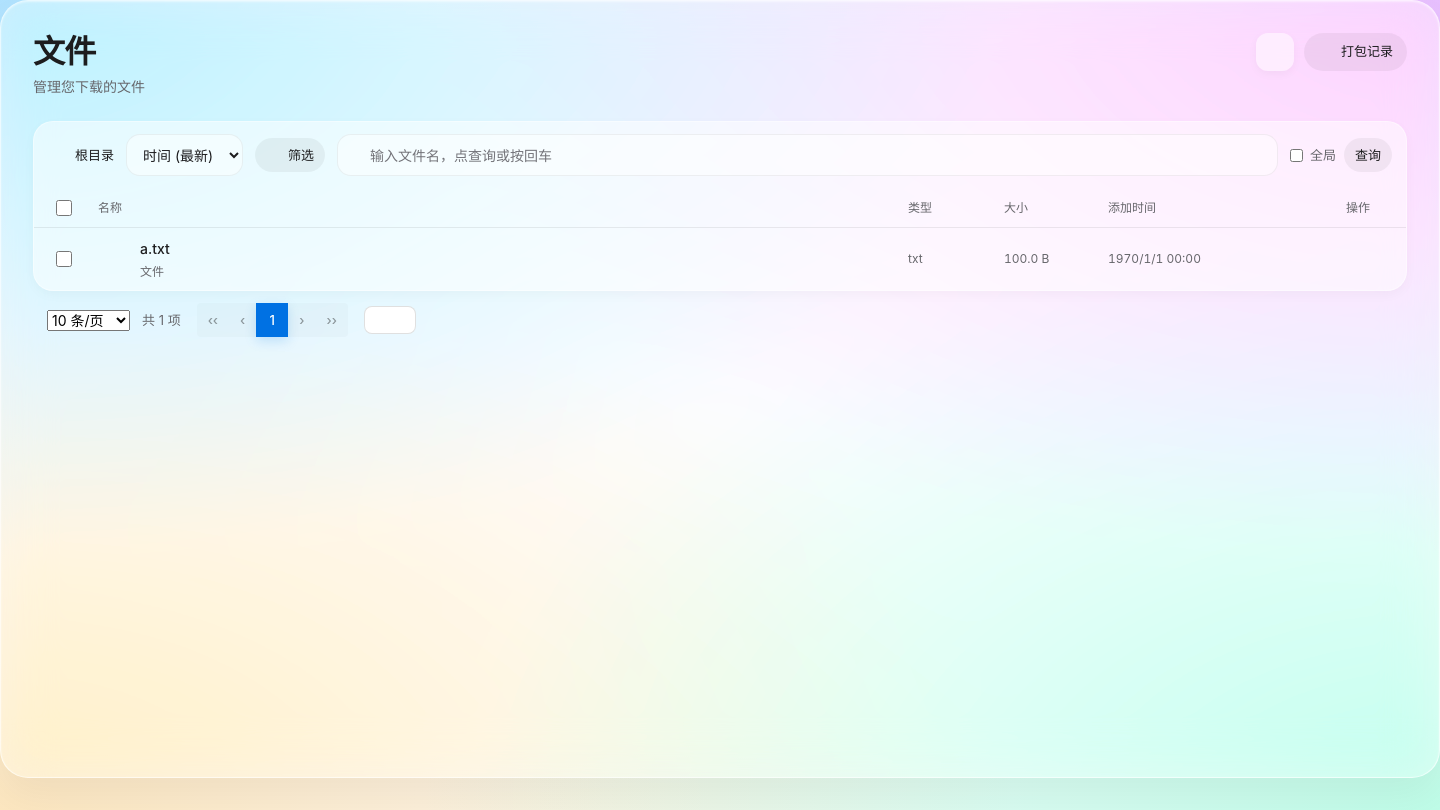
Test: FilesPage 搜索 › Escape 只由 ModalOverlay 退出，完成前不卸载且不重复关闭
The image size is (1440, 810).
Check: the text "a.txt" is shown, box x1=140 y1=240 x2=170 y2=257
Type "abc" into the field named "搜索文件". click: (807, 155)
box: x1=337 y1=134 x2=1278 y2=176
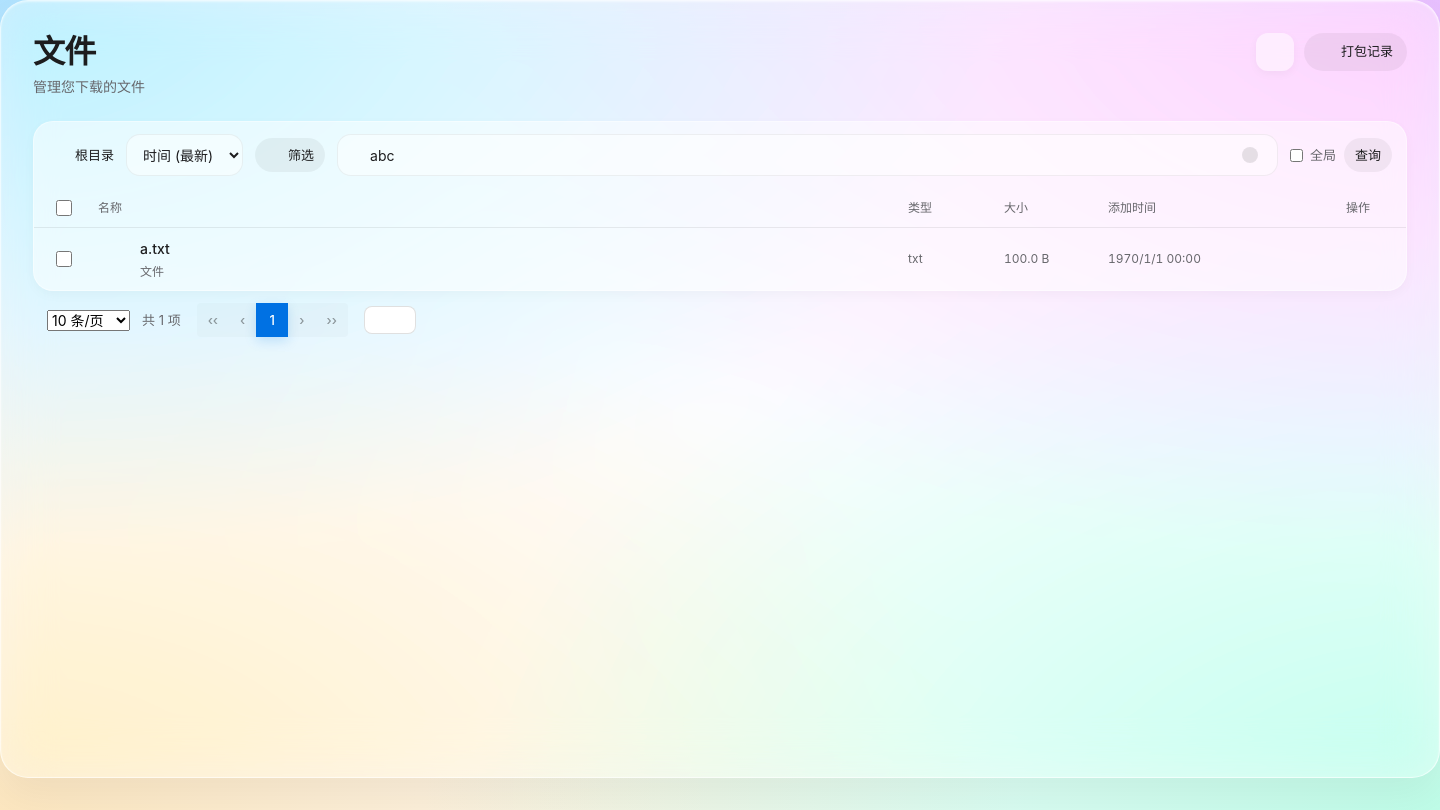
Click the button "查询". click: (1368, 155)
box: x1=1344 y1=138 x2=1392 y2=172
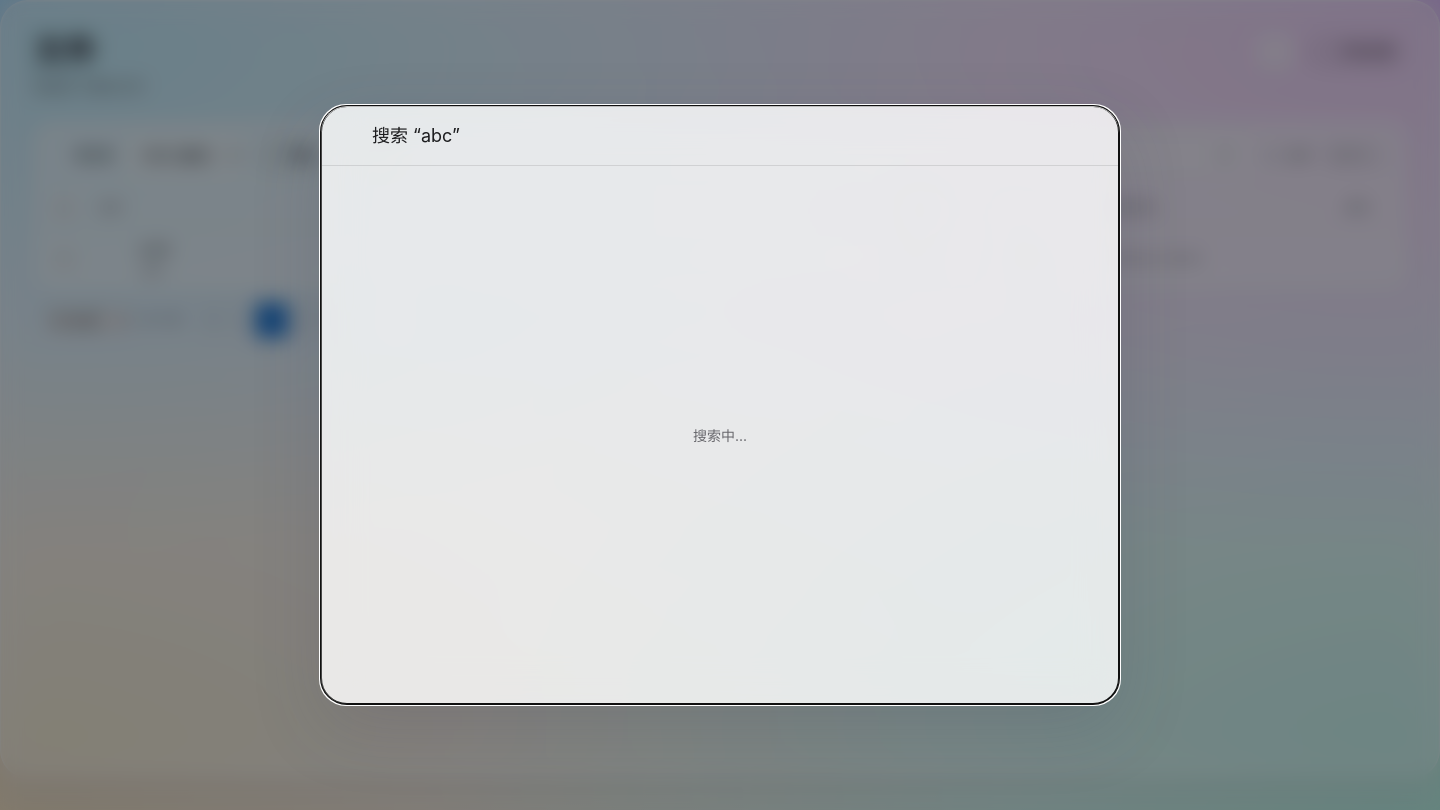
Press Escape
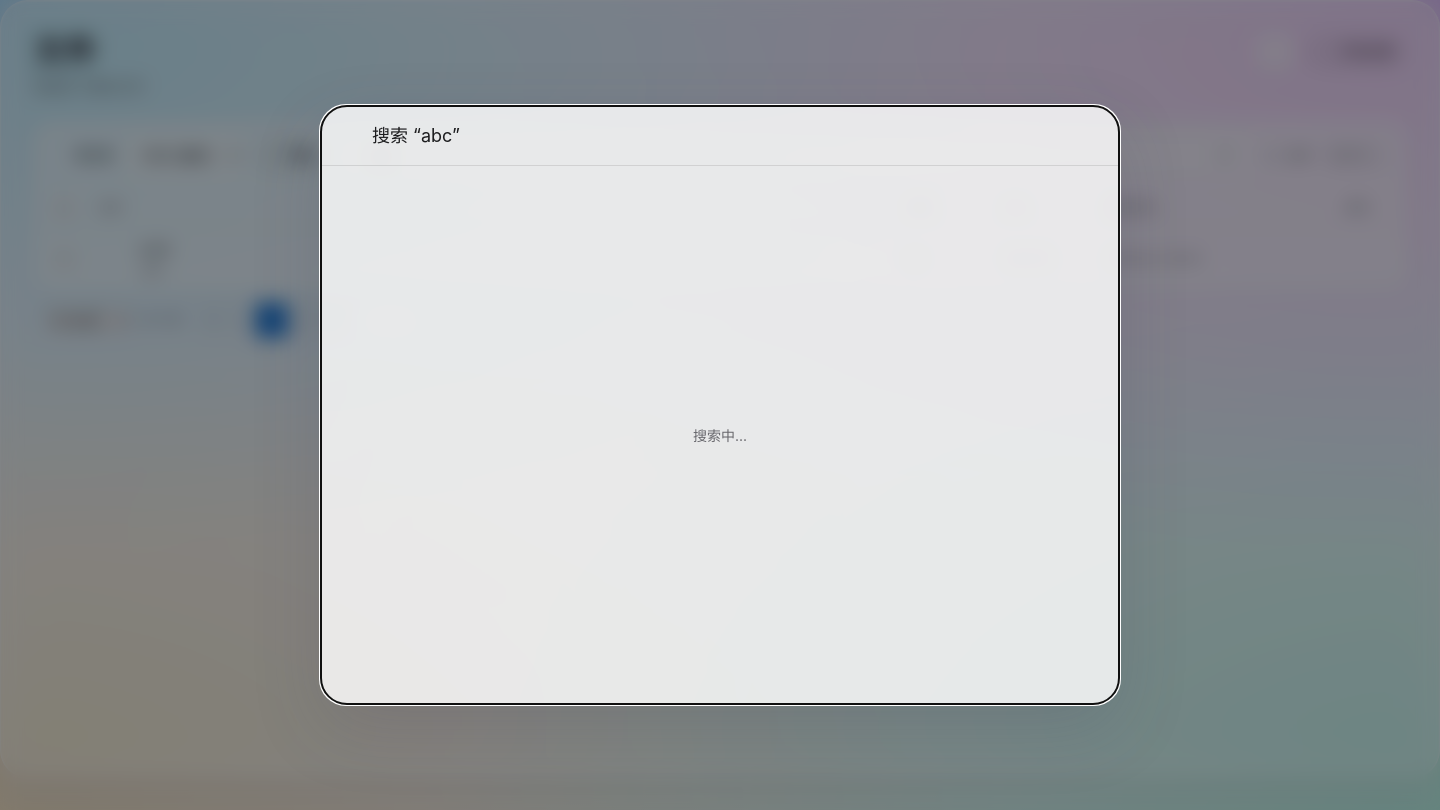
Press Escape
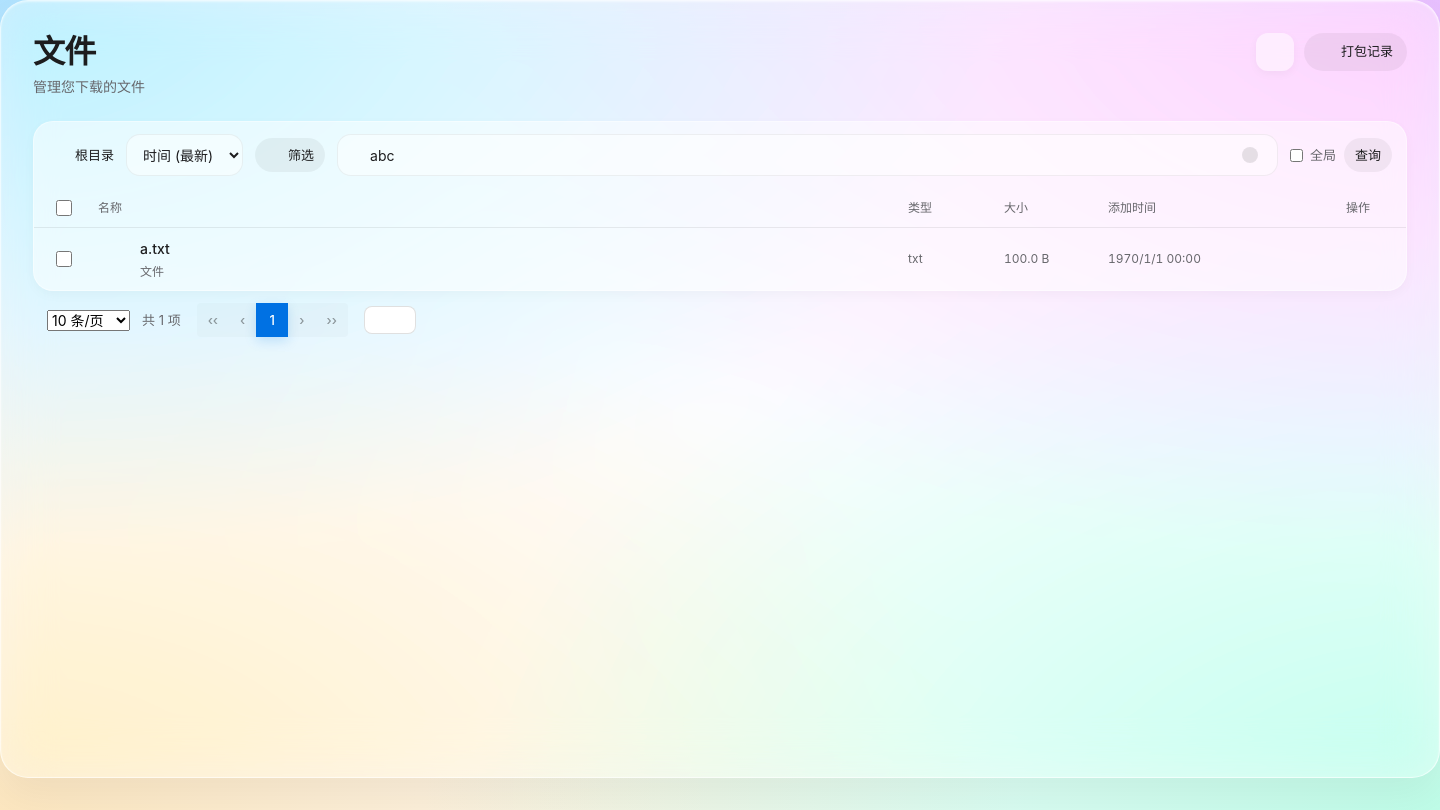
Check: the dialog "搜索结果" is gone
